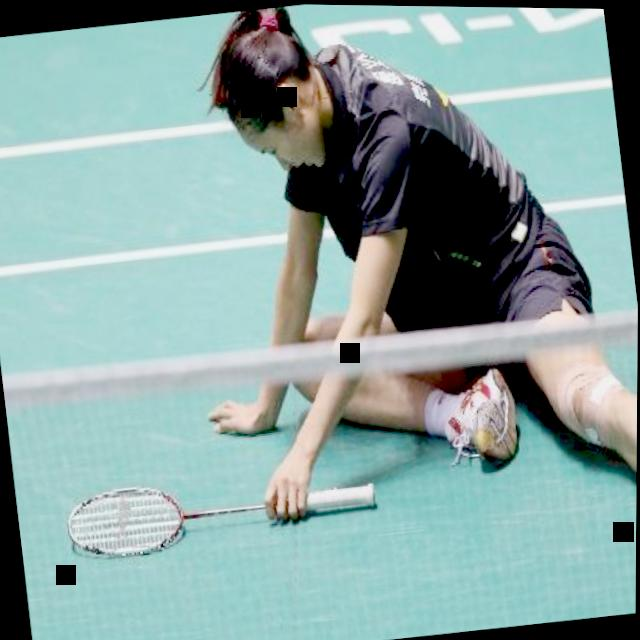Fall-Detected: (156, 2, 640, 560)
